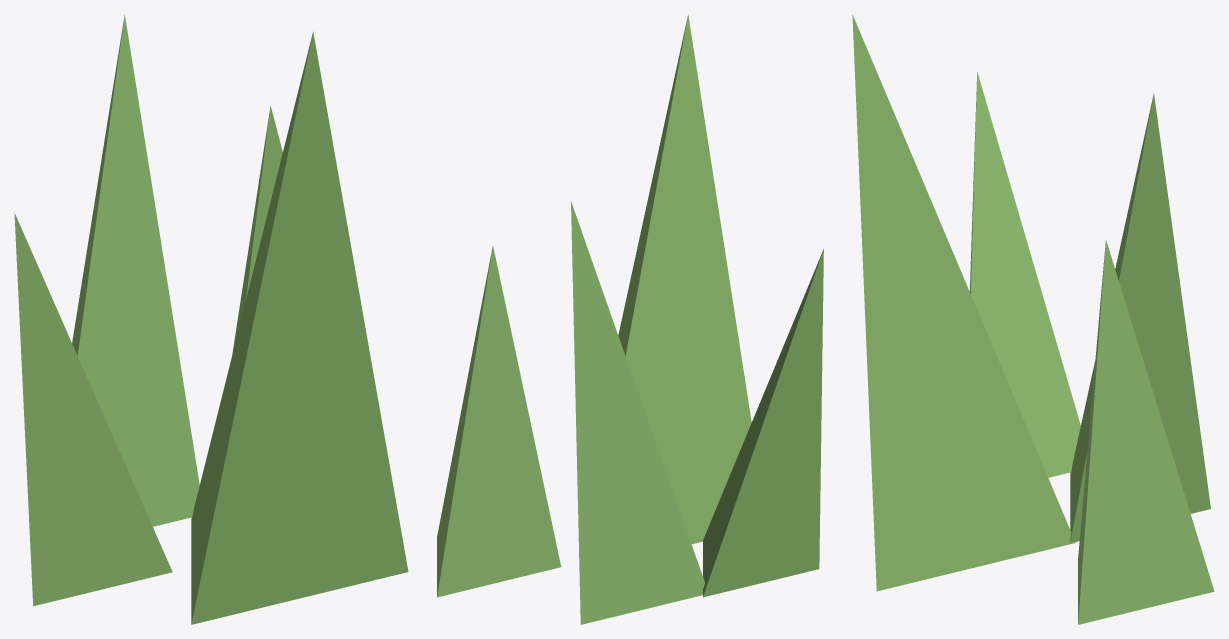
The model's file is Grass1.fbx.
3 renders of one model, left to right at view 1: azimuth 30°, elevation 25°; view 2: azimuth 150°, elevation 25°; view 3: azimuth 270°, elevation 25°, orthographic. The views are drawn at different scales.
Visible parts, largest first — view 1: Grass 1; view 2: Grass 1; view 3: Grass 1.
Boxes of the visible parts, x1=… form: Grass 1: x1=14, y1=14, x2=408, y2=624; Grass 1: x1=437, y1=14, x2=823, y2=624; Grass 1: x1=852, y1=14, x2=1214, y2=624.
Bounding box in the file's own units: 207 × 281 × 173.
